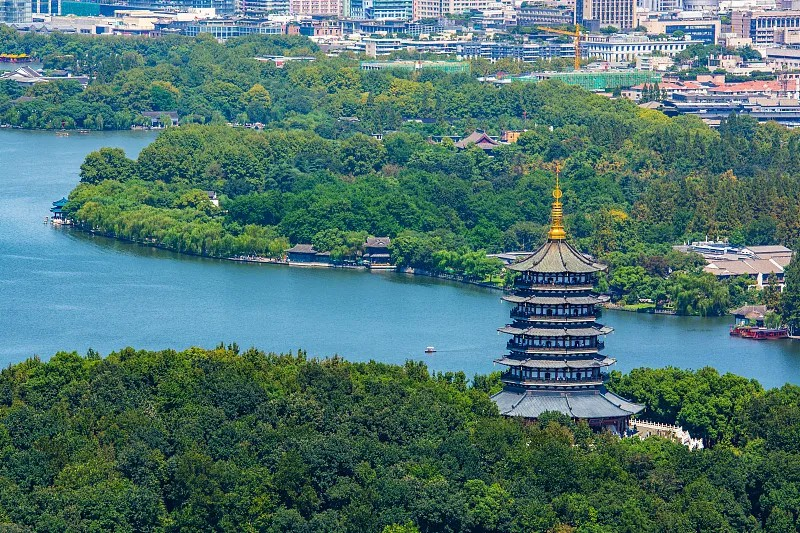Leifeng: (489, 162, 647, 445)
